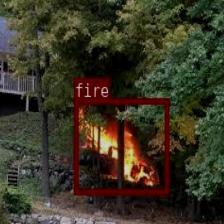fire: (74, 97, 168, 194)
